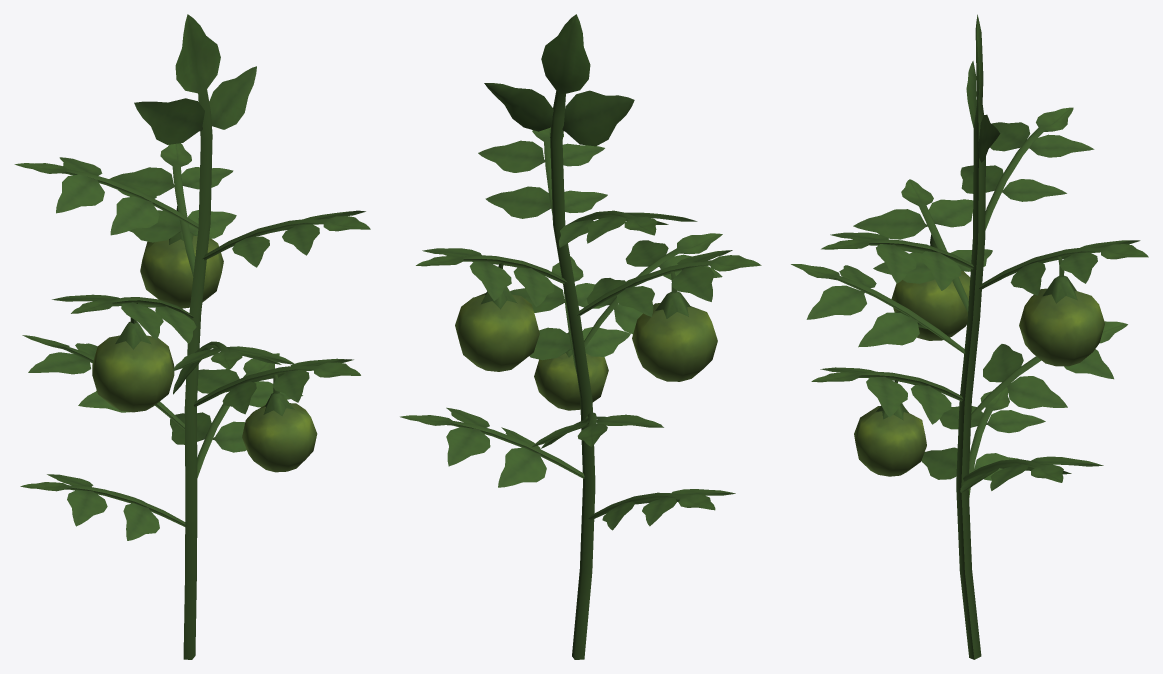
Rendered from Crop_Tomatoes_Stage_05.fbx.
3 renders of one model, left to right at view 1: azimuth 30°, elevation 25°; view 2: azimuth 150°, elevation 25°; view 3: azimuth 270°, elevation 25°, orthographic.
Visible parts, largest first — view 1: Tomatoes_Stage_05; view 2: Tomatoes_Stage_05; view 3: Tomatoes_Stage_05.
Part boxes in pixels (x1,y1,x2,y2): Tomatoes_Stage_05: (14, 14, 370, 659); Tomatoes_Stage_05: (400, 14, 761, 659); Tomatoes_Stage_05: (791, 14, 1148, 659).
Bounding box in the file's own units: 45.65 × 96.18 × 48.59.
